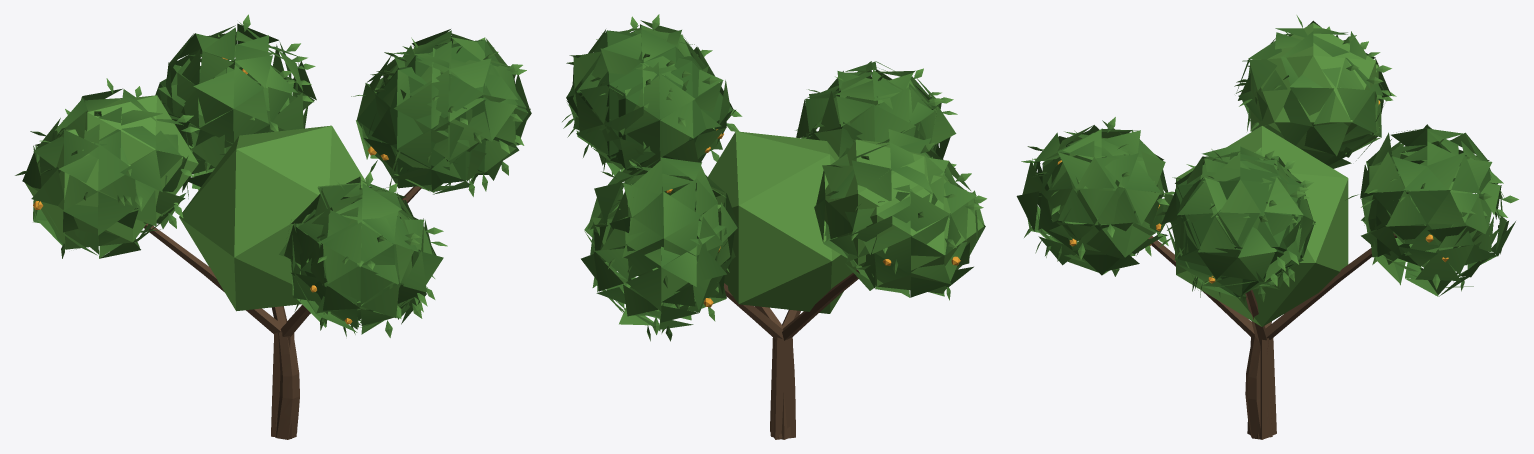
The model's file is apricot.glb.
The picture shows the model from 3 angles, left to right: view 1: azimuth 30°, elevation 25°; view 2: azimuth 150°, elevation 25°; view 3: azimuth 270°, elevation 25°; orthographic projection. The views are drawn at different scales.
Parts seen in each view (by area): view 1: leaves (×3), trunk; view 2: leaves (×3), trunk; view 3: leaves (×3), trunk.
Boxes of the visible parts, x1,y1,x2,y2 form: leaves (×3): (15, 14, 531, 438); trunk: (144, 186, 421, 439); leaves (×3): (562, 14, 986, 439); trunk: (724, 269, 859, 438); leaves (×3): (1016, 15, 1518, 439); trunk: (1148, 233, 1397, 439).
Bounding box in the file's own units: 1.27 × 1 × 1.27.
